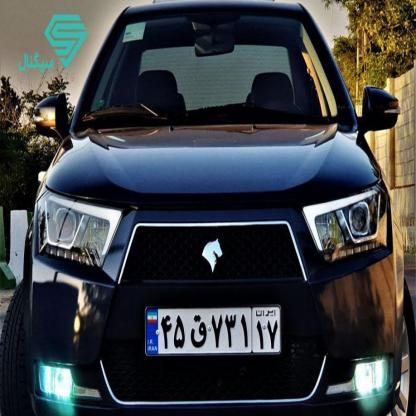Car: (13, 0, 390, 416)
